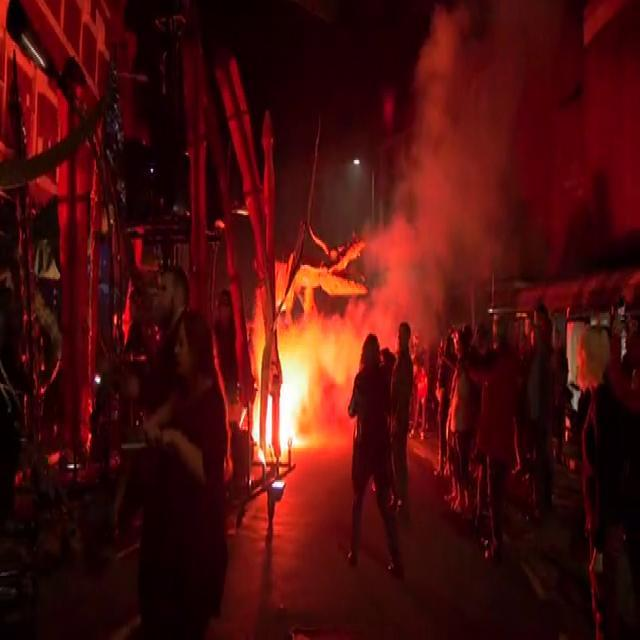fire: (280, 323, 325, 405), (280, 388, 310, 453)
smoke: (466, 0, 584, 128), (424, 186, 494, 290), (366, 231, 456, 311), (422, 50, 480, 174), (579, 5, 636, 104)
